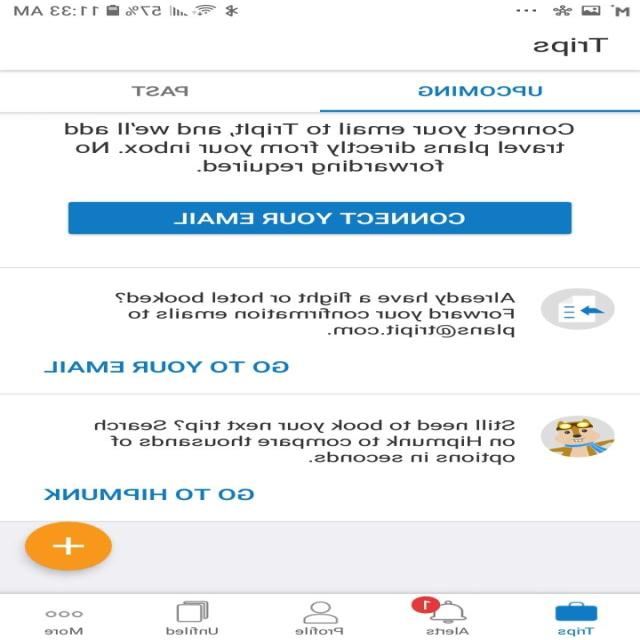Icon: (26, 521, 114, 570), (412, 596, 468, 623), (303, 600, 339, 624), (556, 601, 598, 621), (177, 600, 210, 622), (46, 610, 84, 617)
Image: (540, 288, 616, 330), (540, 416, 614, 457)
Text: (65, 122, 576, 174), (94, 418, 515, 464), (116, 291, 516, 338), (44, 360, 290, 373), (44, 488, 256, 500), (418, 85, 544, 96), (533, 38, 609, 56), (130, 85, 190, 97), (166, 626, 219, 634), (295, 626, 344, 634), (427, 626, 470, 634), (558, 627, 595, 636), (46, 626, 84, 634)
TextButton: (69, 201, 572, 234)
